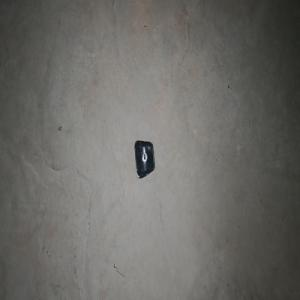LuggagePart: (133, 139, 155, 179)
